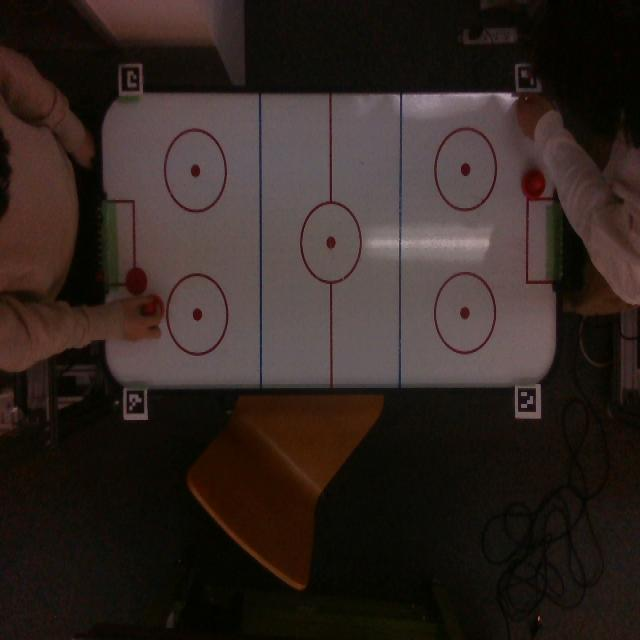puck: (126, 268, 147, 296)
